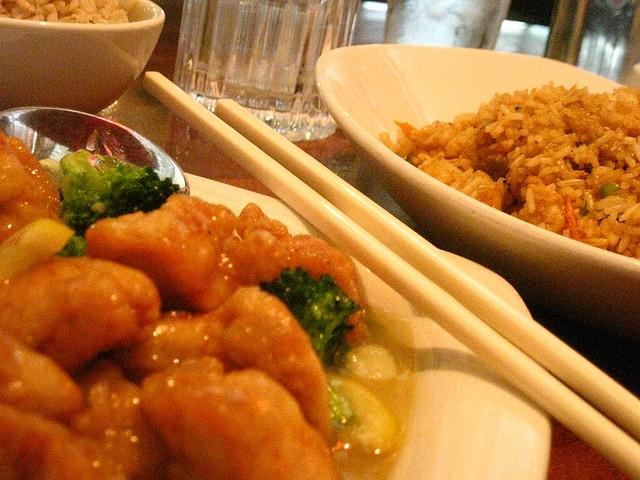broccoli: (59, 150, 183, 240), (258, 266, 362, 371), (326, 378, 354, 430), (56, 233, 86, 256)
carrot: (566, 196, 580, 240), (393, 120, 418, 138), (492, 185, 502, 211)
pea: (598, 182, 620, 196)
